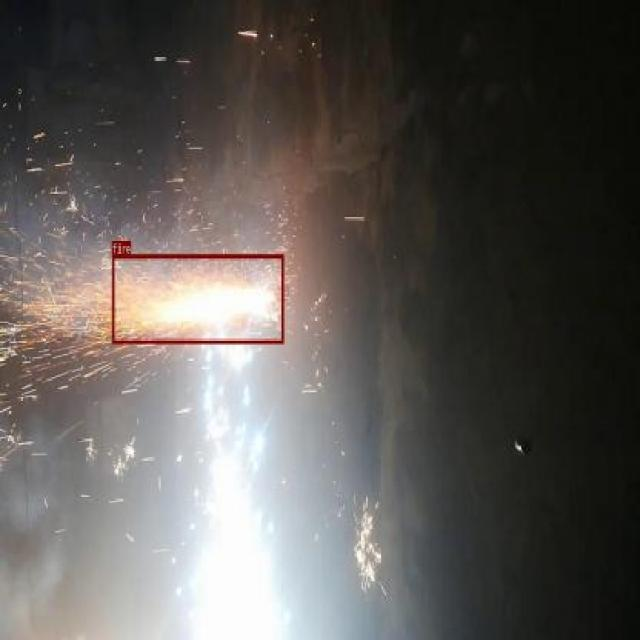Fire: (111, 254, 284, 343)
